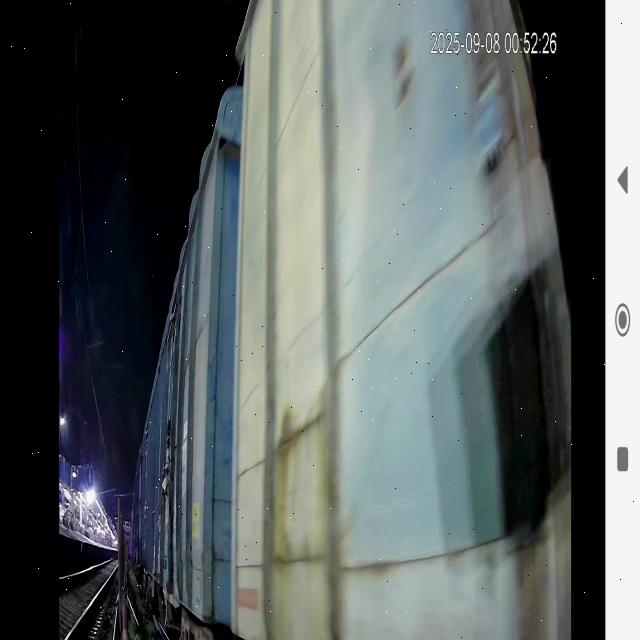joint: (177, 0, 314, 640)
